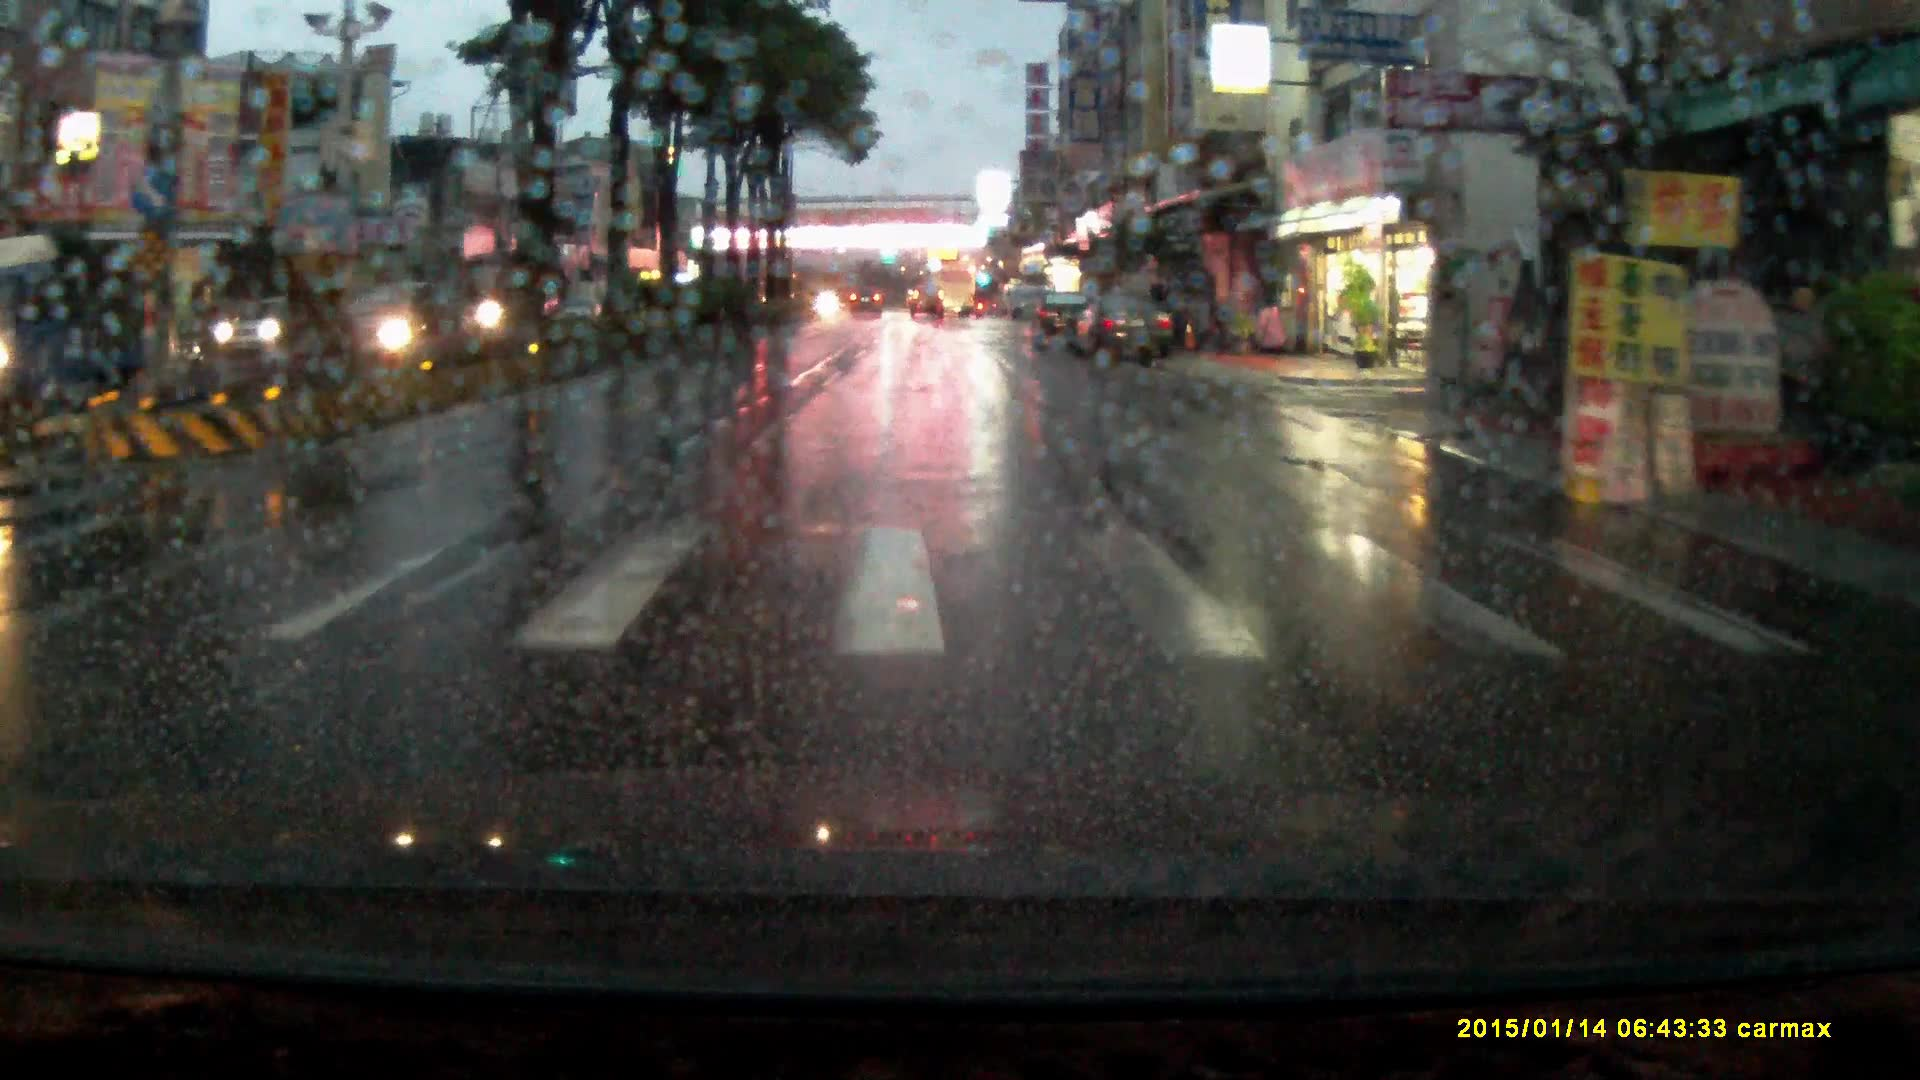rider: (470, 255, 530, 357)
vehicle: (1, 230, 212, 415), (333, 280, 481, 364), (1072, 297, 1178, 372), (214, 303, 296, 364), (1034, 295, 1093, 352), (927, 257, 975, 318), (912, 288, 948, 325), (851, 289, 883, 320)
